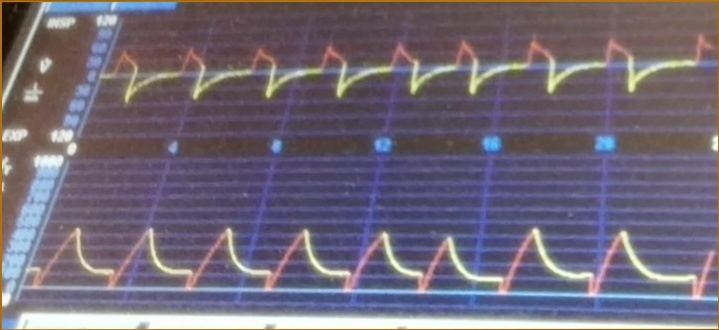Flow: (115, 22, 716, 130)
Leakage Volume: (49, 192, 719, 312)
